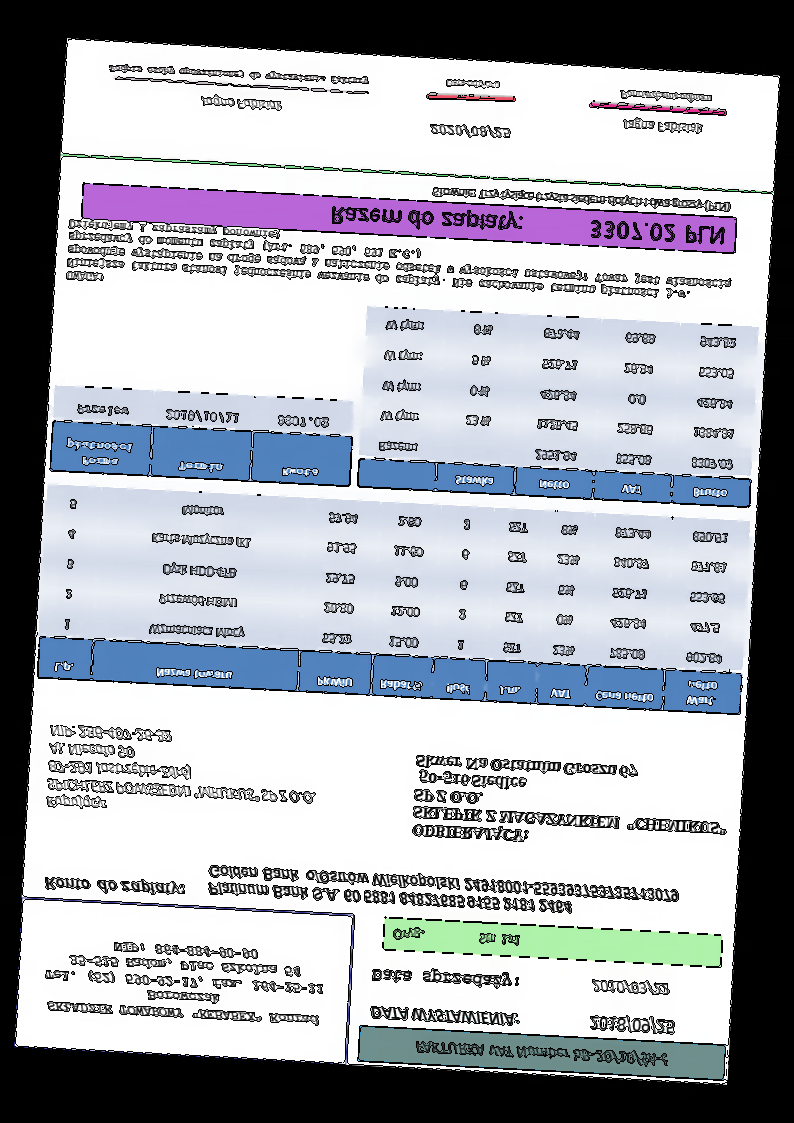Table: (35, 484, 752, 717), (357, 304, 760, 508), (47, 383, 356, 489)
TextBox: (64, 216, 733, 316), (410, 752, 730, 854), (205, 862, 680, 923), (42, 722, 319, 825), (43, 936, 328, 1029), (328, 200, 727, 249), (429, 182, 732, 215), (412, 1037, 672, 1069), (106, 61, 370, 89), (369, 963, 522, 993), (41, 871, 187, 900), (368, 1003, 522, 1029), (390, 924, 523, 949), (587, 1013, 677, 1038), (618, 87, 714, 106), (620, 117, 703, 136), (590, 978, 671, 997), (198, 95, 283, 113), (428, 122, 513, 140), (443, 76, 502, 92)
